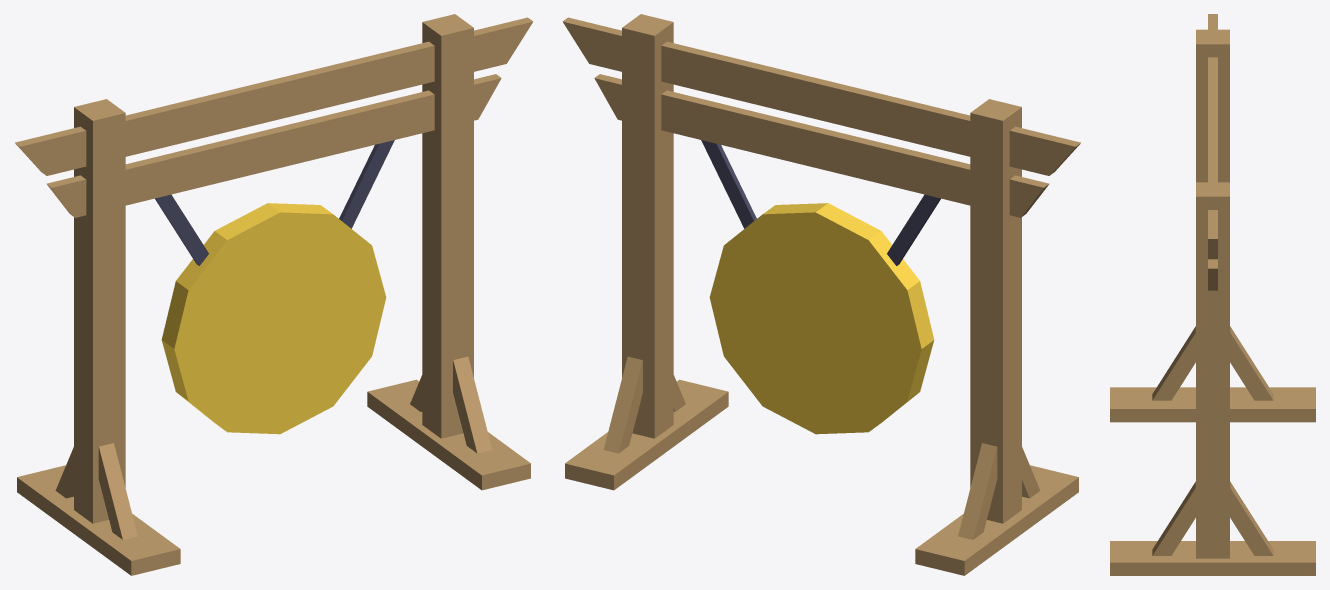
The model's file is Gong.fbx.
3 views of the same model, side by side, from view 1: azimuth 30°, elevation 25°; view 2: azimuth 150°, elevation 25°; view 3: azimuth 270°, elevation 25° (orthographic). The views are drawn at different scales.
Parts seen in each view (by area): view 1: Gong_Geo; view 2: Gong_Geo; view 3: Gong_Geo.
Boxes of the visible parts, left/top/right/bottom form: Gong_Geo: left=15, top=14, right=533, bottom=575; Gong_Geo: left=562, top=14, right=1080, bottom=575; Gong_Geo: left=1110, top=14, right=1315, bottom=575.
Bounding box in the file's own units: 58.3 × 45.34 × 22.54.
